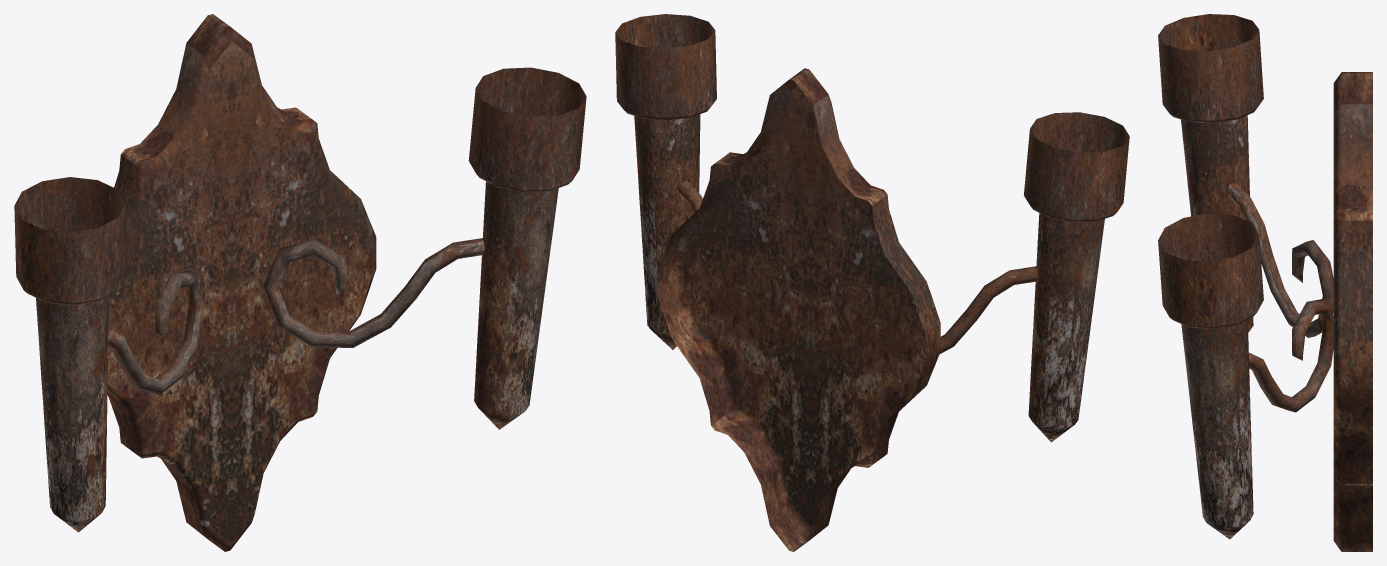
The model's file is Lampenhalter.gltf.
The picture shows the model from 3 angles, left to right: view 1: azimuth 30°, elevation 25°; view 2: azimuth 150°, elevation 25°; view 3: azimuth 270°, elevation 25°; orthographic projection. The views are drawn at different scales.
Parts seen in each view (by area): view 1: Lampenhalter; view 2: Lampenhalter; view 3: Lampenhalter.
Boxes of the visible parts, x1,y1,x2,y2 form: Lampenhalter: [14, 14, 586, 551]; Lampenhalter: [615, 14, 1129, 551]; Lampenhalter: [1158, 14, 1372, 551].
Size of the model in its own units: 1.2 by 1.08 by 0.4391.
1 material, 1 textured.
